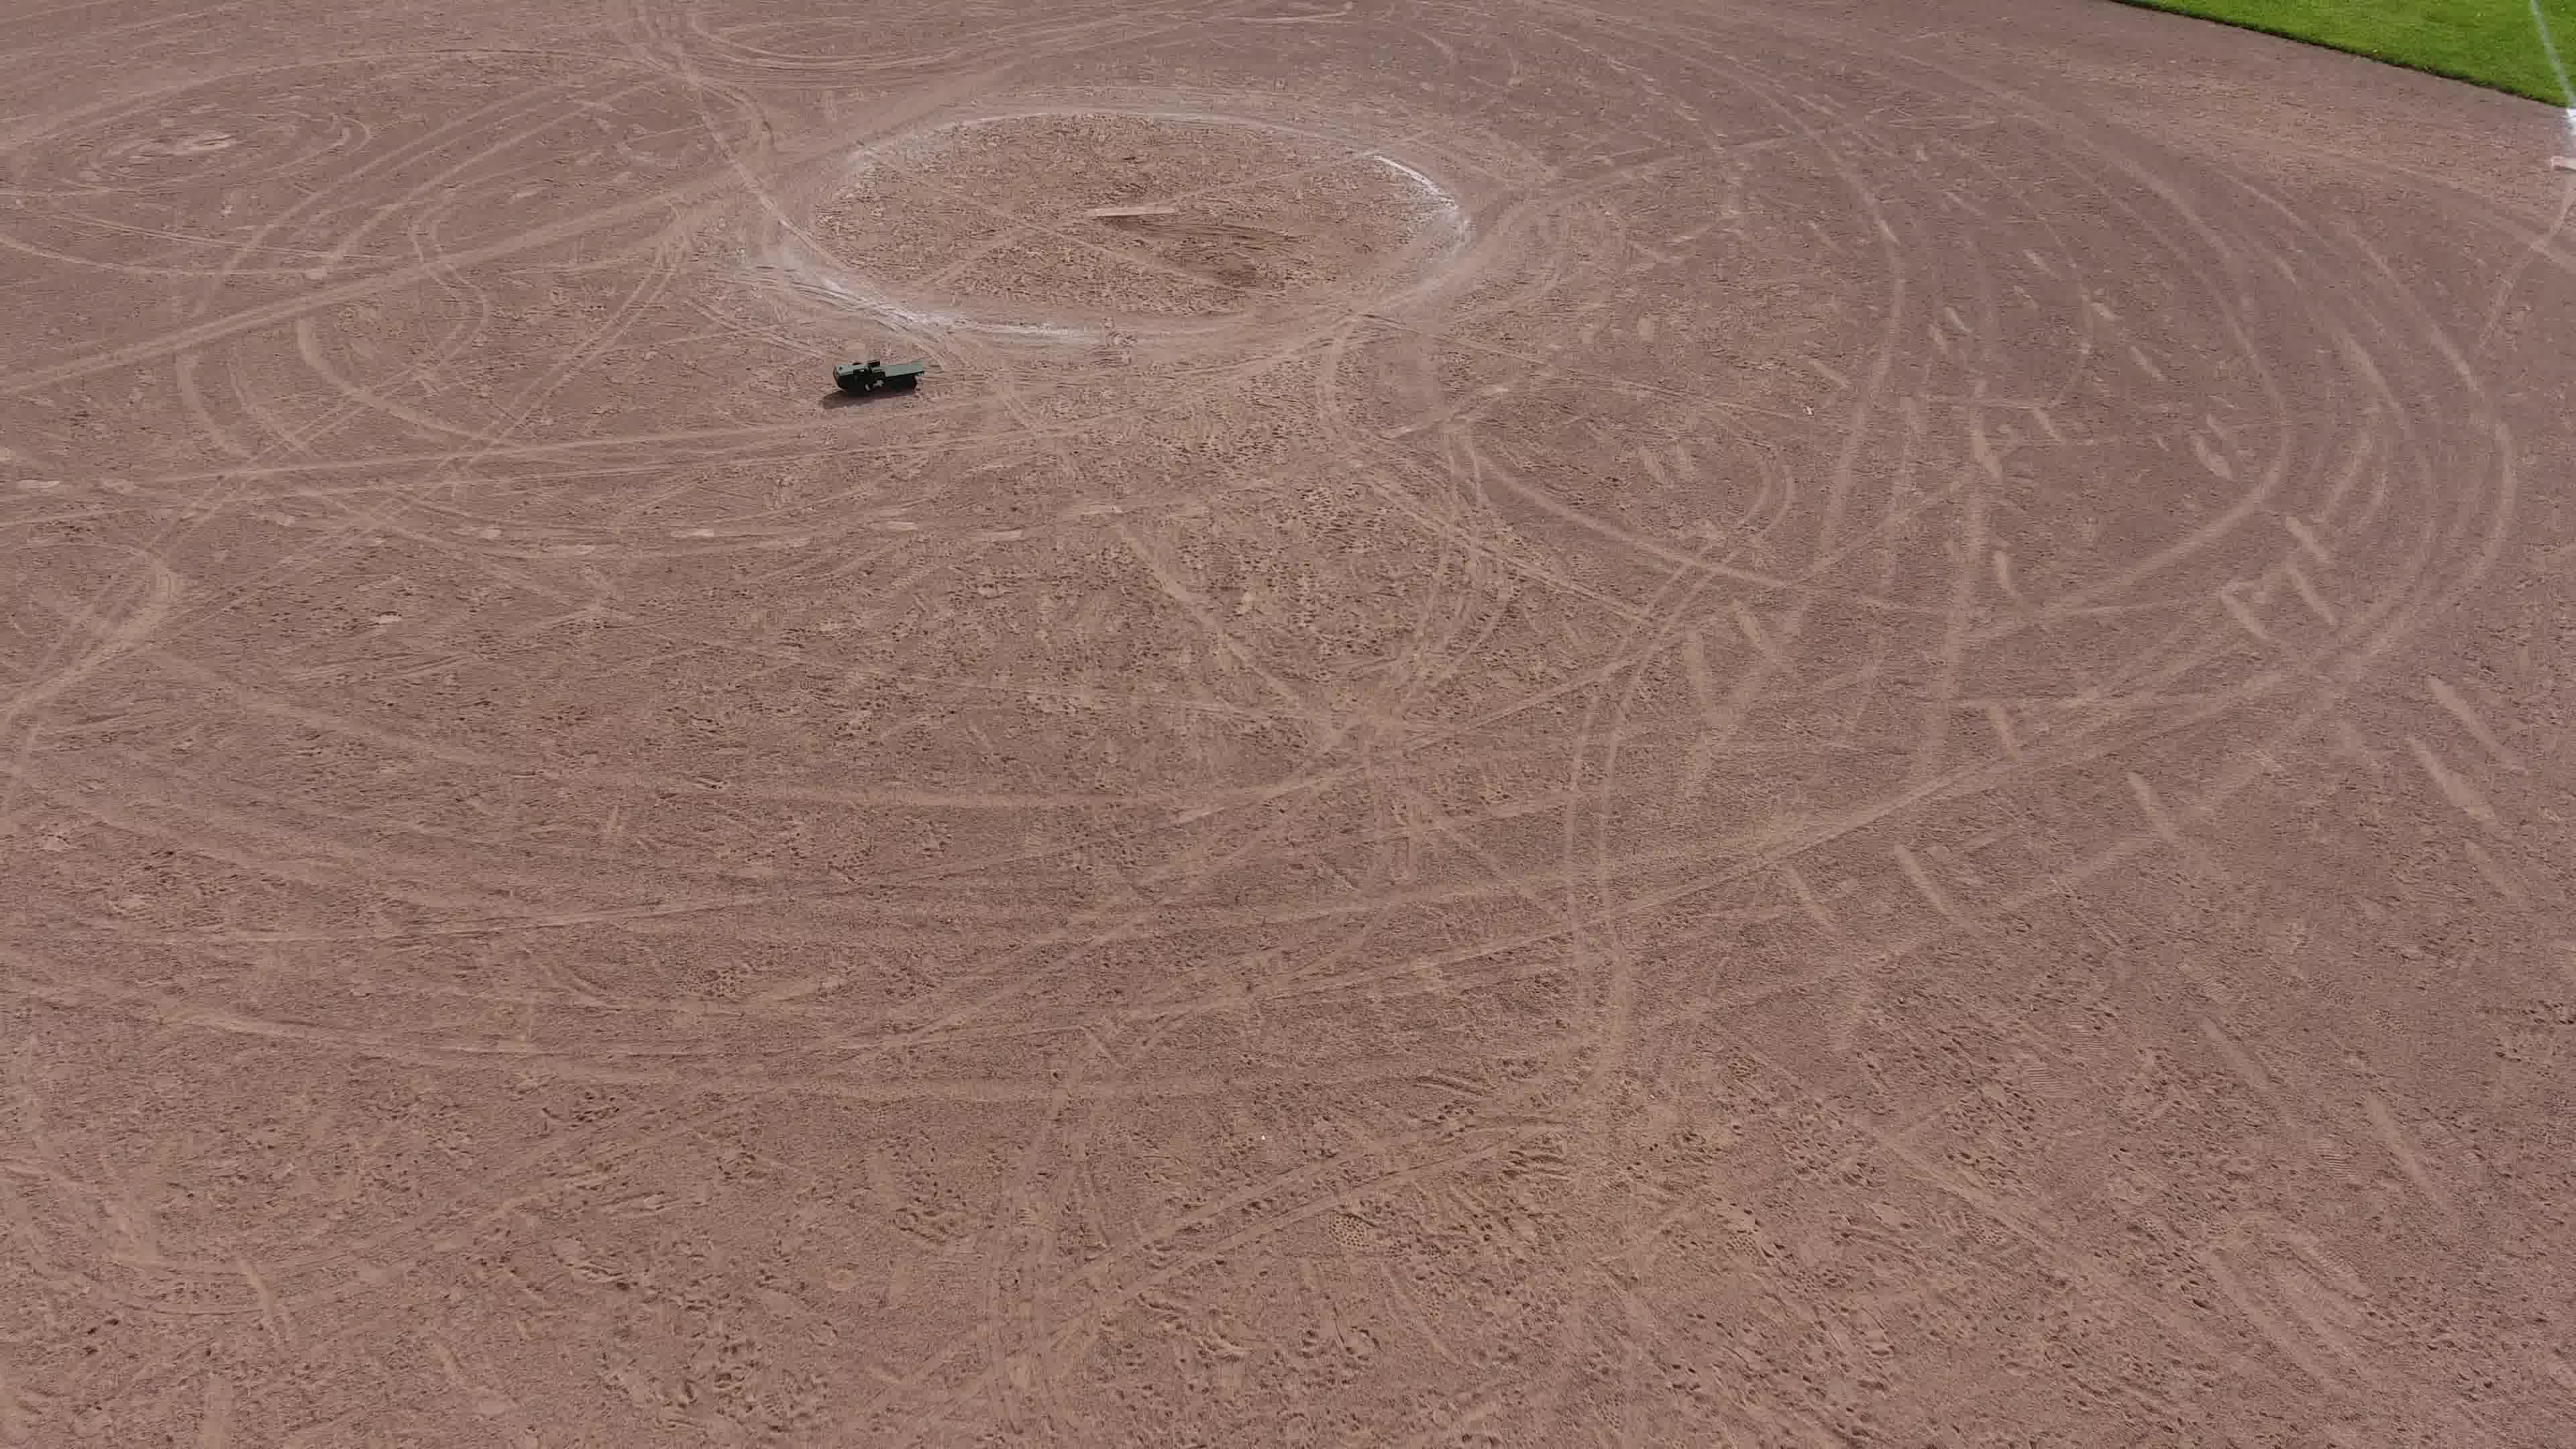transporter9: (828, 356, 927, 393)
